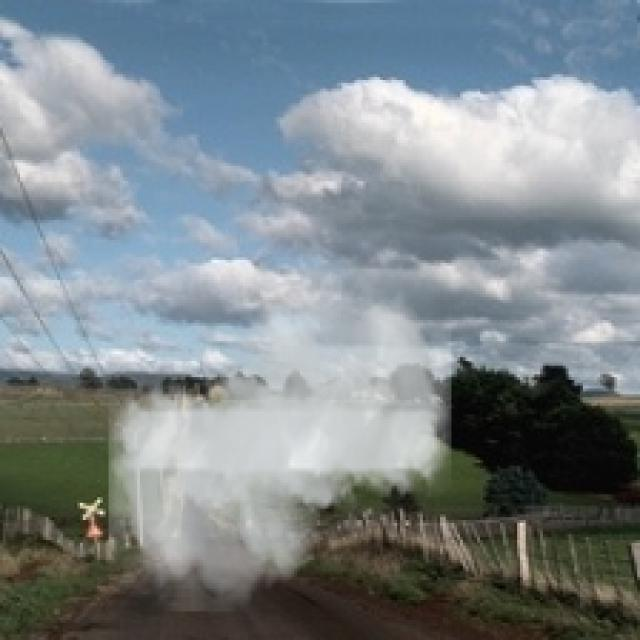Smoke: (109, 268, 452, 612)
